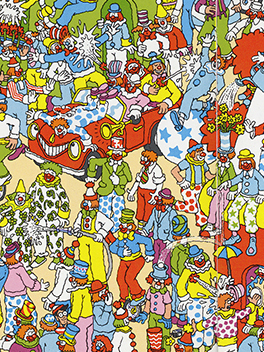waldo: (49, 302, 69, 324)
